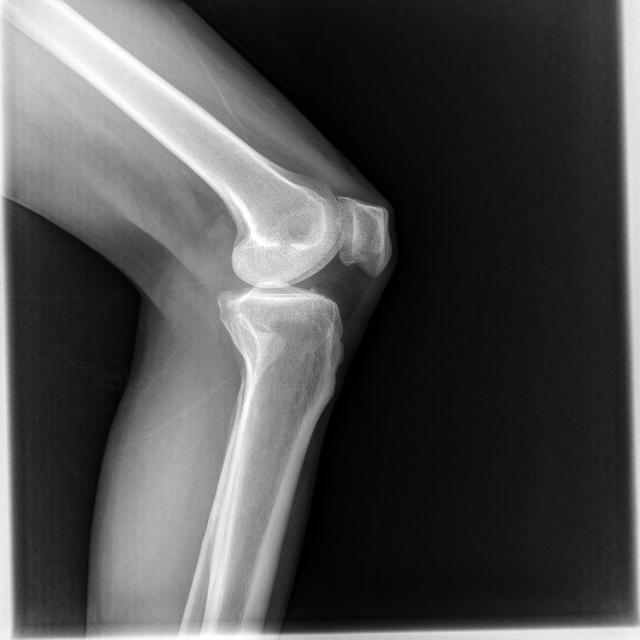Knee: (213, 194, 391, 351)
